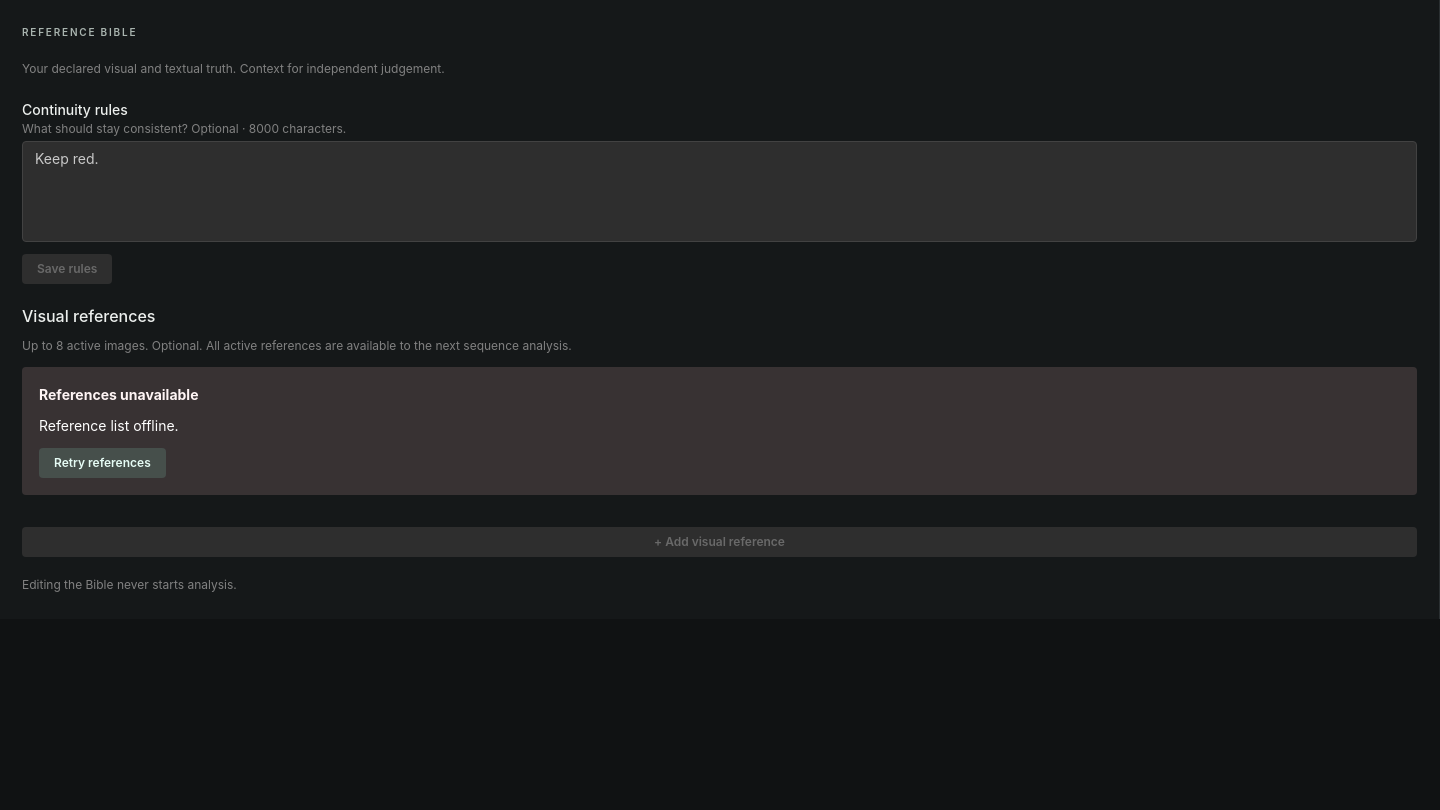
Test: reference list failure is isolated and can be retried
expect the message shows "Reference list offline.": met, box [39,417,179,434]
expect the text box labelled "Continuity rules" is enabled: met, box [22,142,1417,242]
Click the button "Retry references": x=102, y=463 [39,448,166,478]
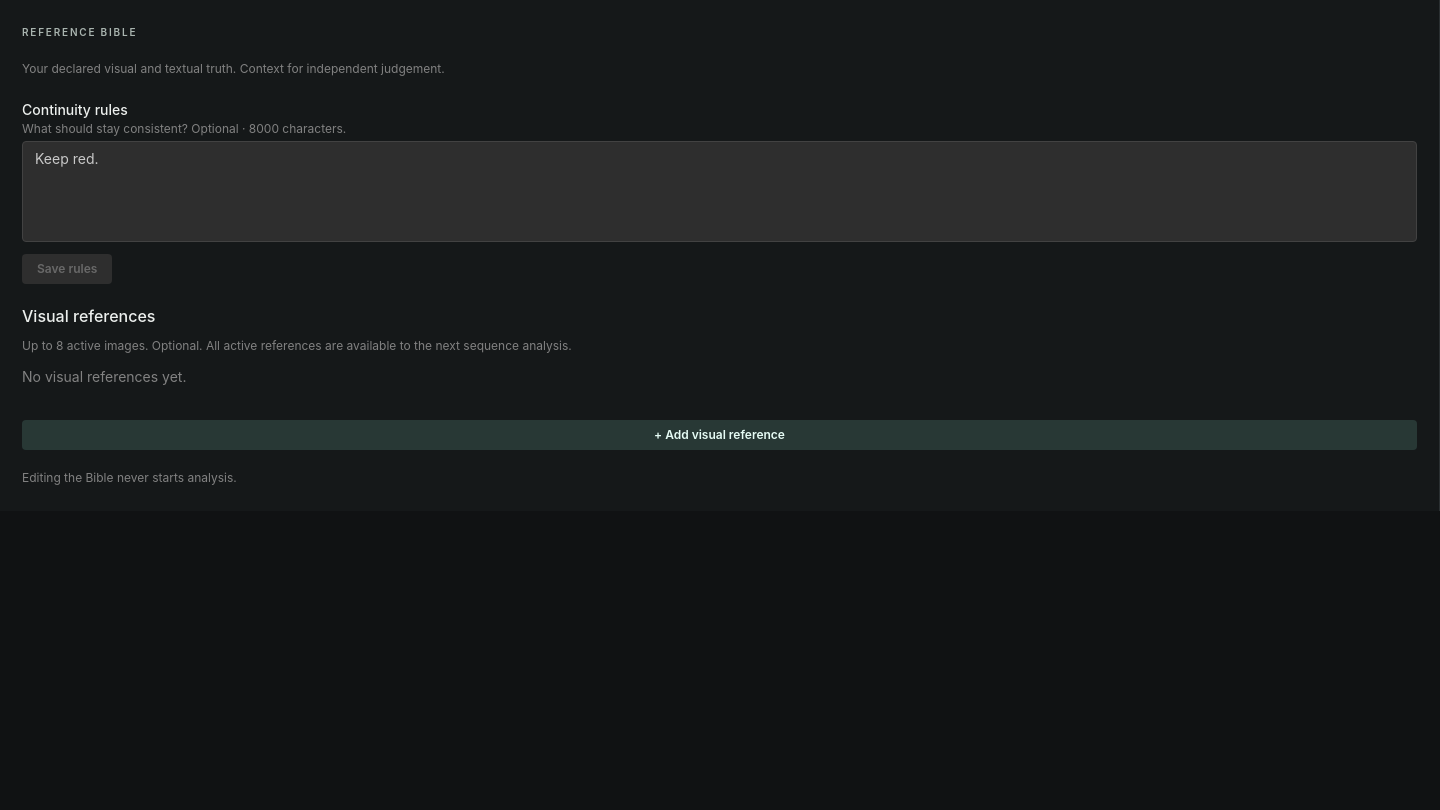
expect the text "No visual references yet." is shown: met, box [22,368,186,385]
